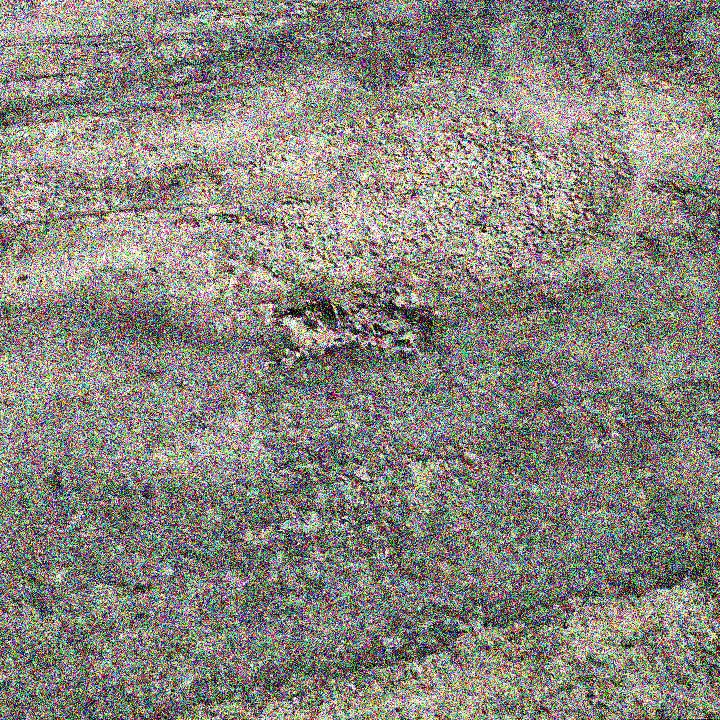pothole: (130, 564, 720, 720), (270, 292, 432, 363)
